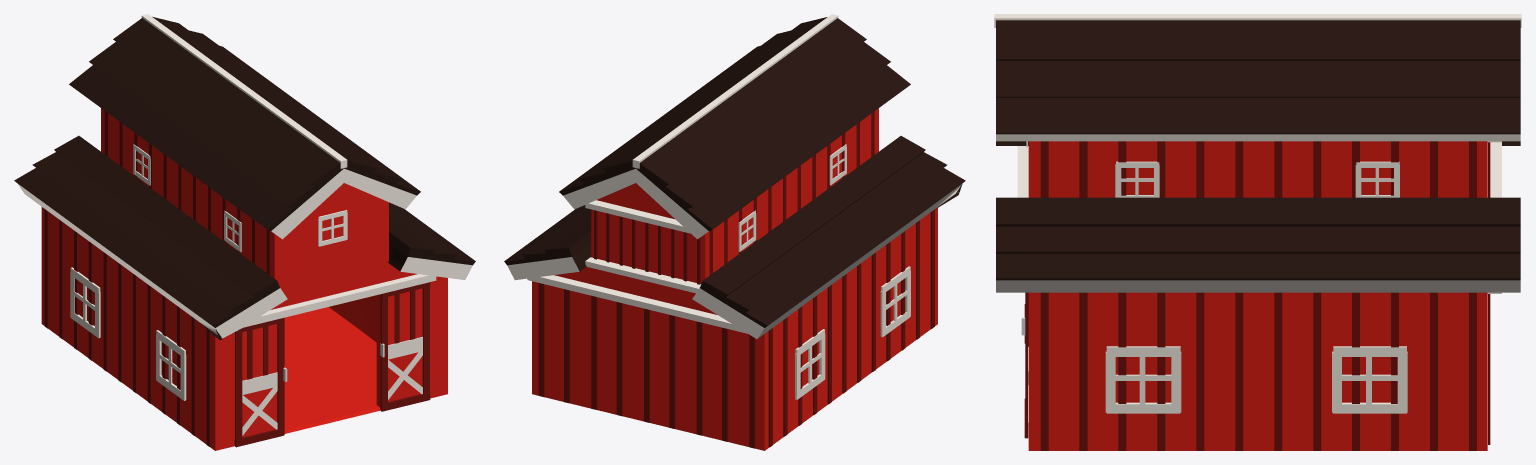
Rendered from garaz.FBX.
3 renders of one model, left to right at view 1: azimuth 30°, elevation 25°; view 2: azimuth 150°, elevation 25°; view 3: azimuth 270°, elevation 25°, orthographic. The views are drawn at different scales.
Parts seen in each view (by area): view 1: garage, Box081, Box090, Box229, Box087, Box086, Box082, Box085, Box153, Box152, Box149, Box146 (+10 smaller); view 2: garage, Box081, Box220, Box229, Box221, Box228, Box160, Box157, Box155, Box156, Box154, Box159 (+14 smaller); view 3: garage, Box081, Box229, Box131, Box130, Box134, Box135, Box136, Box137, Box140, Box141, Box132 (+10 smaller).
Boxes of the visible parts, <box> form: garage: <box>14,16,475,339</box>; Box081: <box>41,108,447,450</box>; Box090: <box>244,274,436,327</box>; Box229: <box>141,14,347,168</box>; Box087: <box>277,317,284,435</box>; Box086: <box>235,332,242,439</box>; Box082: <box>380,294,387,411</box>; Box085: <box>422,286,429,394</box>; Box153: <box>44,209,48,328</box>; Box152: <box>59,220,63,339</box>; Box149: <box>103,252,107,371</box>; Box146: <box>147,284,151,403</box>; garage: <box>504,17,965,338</box>; Box081: <box>532,108,937,450</box>; Box220: <box>527,275,747,333</box>; Box229: <box>632,14,838,168</box>; Box221: <box>585,257,700,293</box>; Box228: <box>585,200,690,233</box>; Box160: <box>696,321,702,435</box>; Box157: <box>616,302,622,416</box>; Box155: <box>564,289,570,403</box>; Box156: <box>591,295,597,409</box>; Box154: <box>538,283,544,396</box>; Box159: <box>669,315,675,428</box>; garage: <box>996,20,1520,292</box>; Box081: <box>1028,141,1487,450</box>; Box229: <box>994,14,1521,27</box>; Box131: <box>1079,292,1087,450</box>; Box130: <box>1040,292,1048,450</box>; Box134: <box>1196,292,1204,450</box>; Box135: <box>1235,292,1243,450</box>; Box136: <box>1274,292,1282,450</box>; Box137: <box>1313,292,1321,450</box>; Box140: <box>1430,292,1437,450</box>; Box141: <box>1469,292,1476,450</box>; Box132: <box>1118,292,1126,450</box>.
Size of the model in its own units: 16.03 by 15.77 by 20.97.
